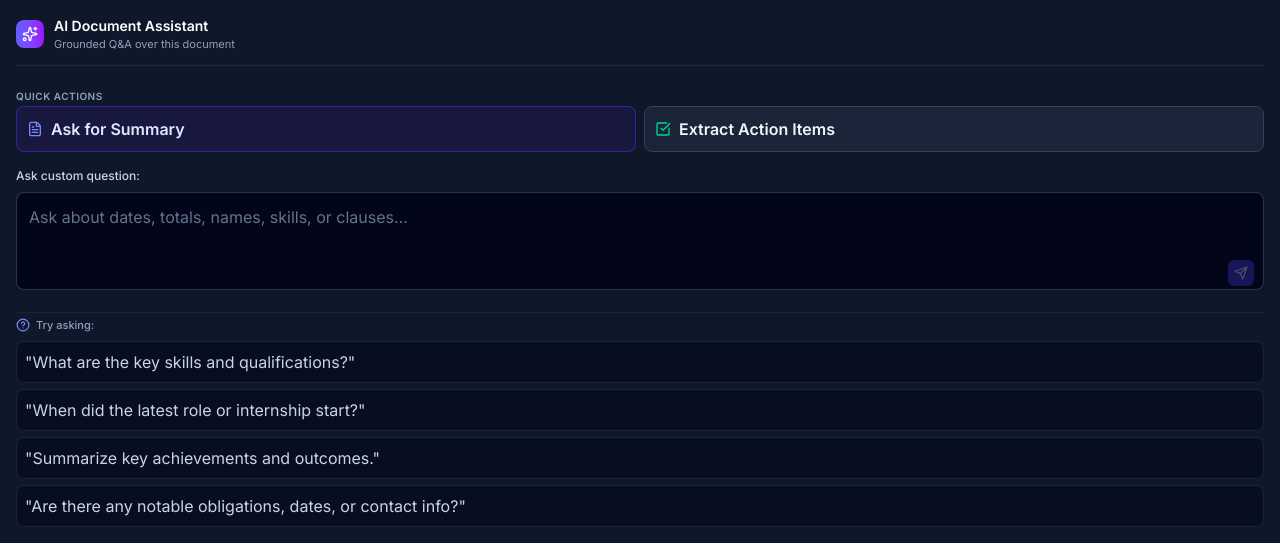
DocumentQAPanel › submits summary query on 'Ask for Summary' click
Click the button "Ask for Summary".
click(118, 128)  # box [16, 106, 636, 152]
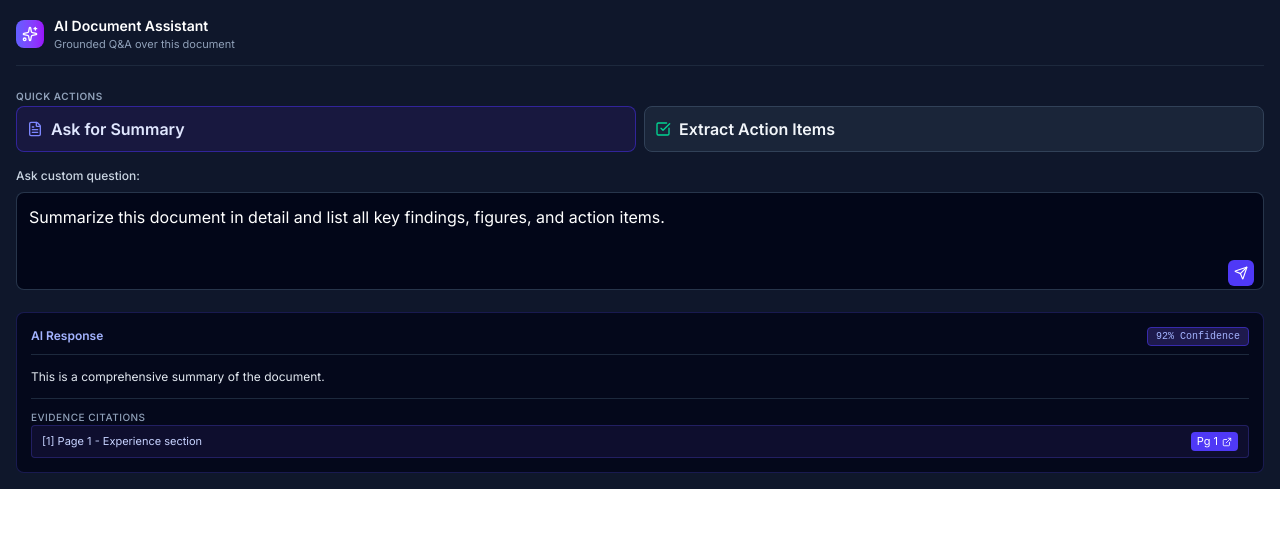
Now the text "This is a comprehensive summary of the document." is shown, box [31, 369, 325, 384]
Now the text "92% Confidence" is shown, box [1147, 326, 1249, 346]
Now the text "[1] Page 1 - Experience section" is shown, box [42, 434, 202, 449]
